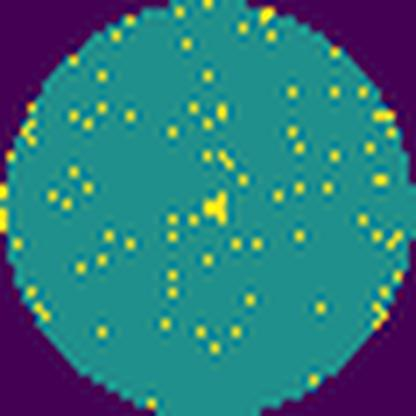Center: (204, 188, 230, 226)
